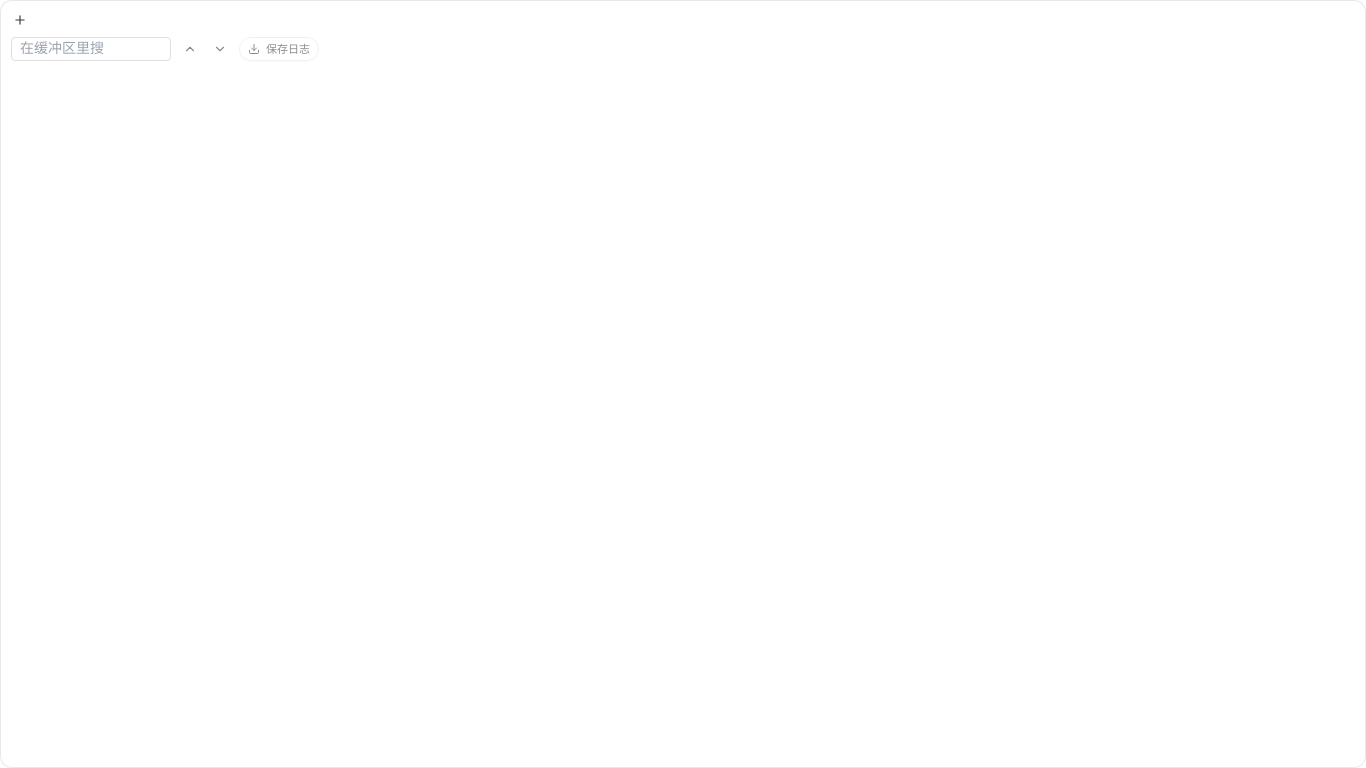
Scenario: 真终端页（FT1 分页） › tab 默认显示「会话 1」「会话 2」，界面上不再有 1/8
Click the button with test id "terminal-new" at point(20, 20), box x1=11 y1=11 x2=29 y2=29
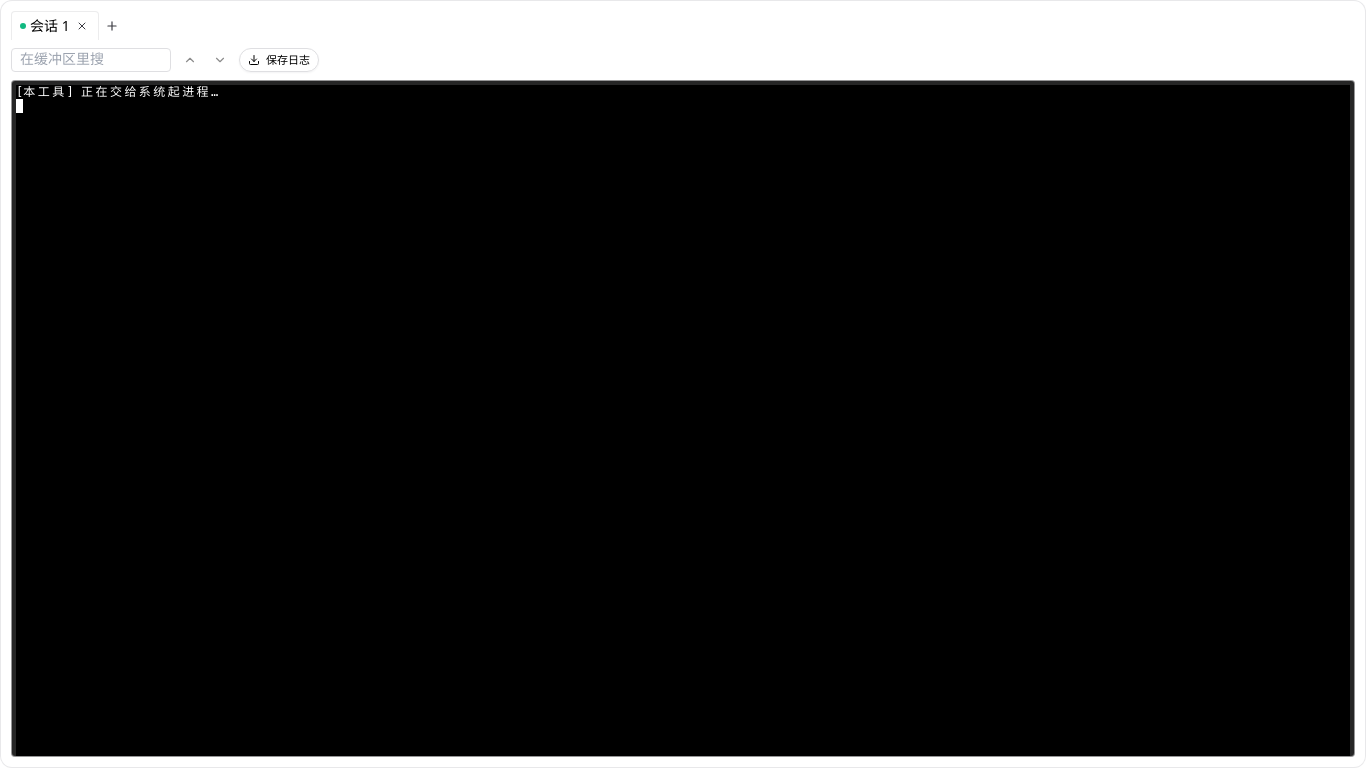
Expected: the element with test id "terminal-chip-term-1" reads "会话 1", x1=20 y1=16 x2=70 y2=36
Click the button with test id "terminal-new" at point(112, 26), box x1=103 y1=16 x2=121 y2=34
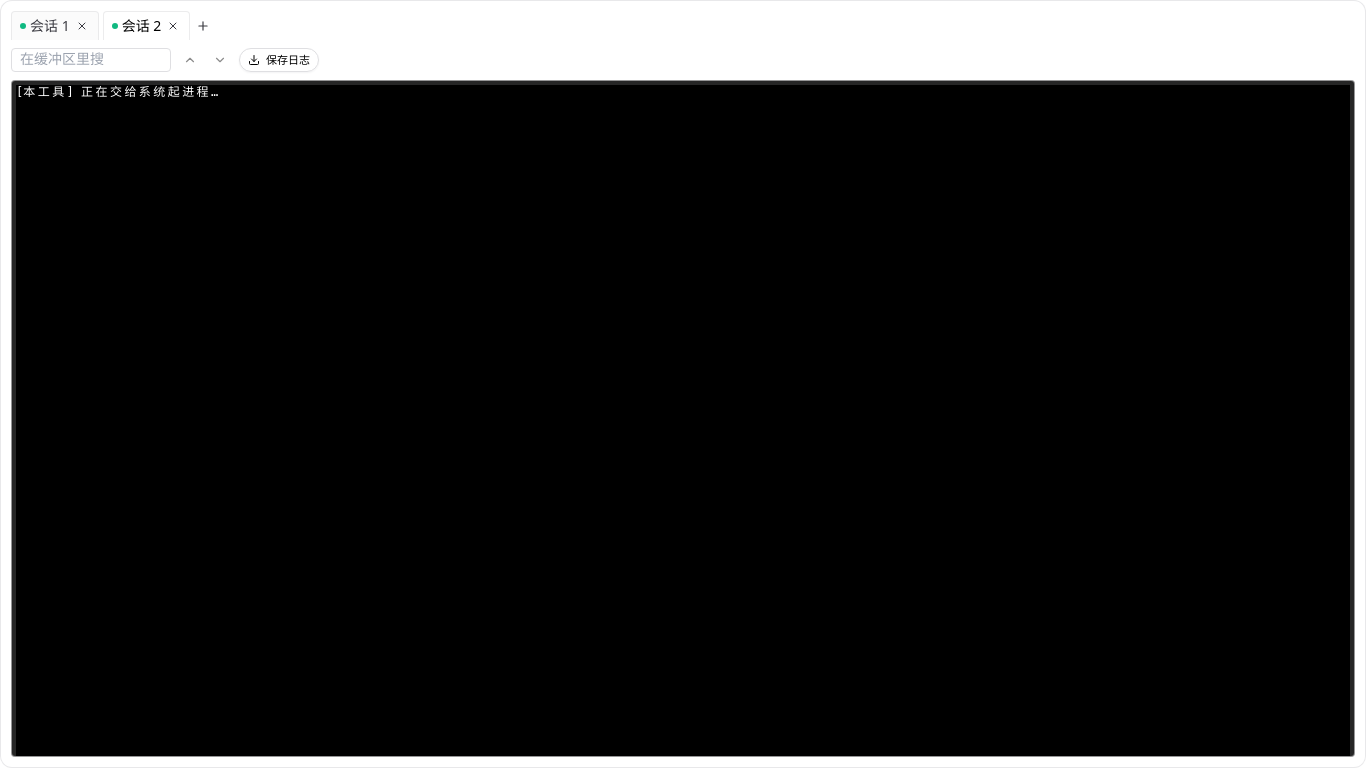
Expected: the element with test id "terminal-chip-term-2" reads "会话 2", x1=112 y1=16 x2=161 y2=36
